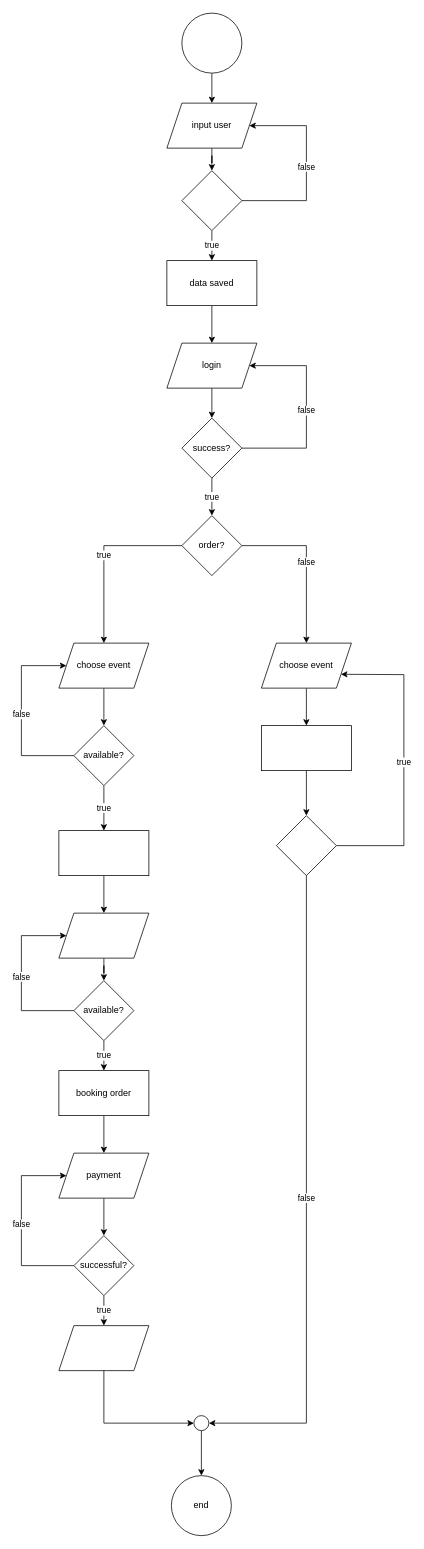
Image size: 424x1549. Some labels were removed from this diagram. Here are the shapes that lost their labels. From the top down, the centre of each, then its label:
At (211,42): "start".
At (211,200): "data complete?".
At (306,748): "save wishlist".
At (103,853): "booking".
At (306,845): "another event?".
At (103,935): "choose date and section".
At (103,1348): "print ticket".
